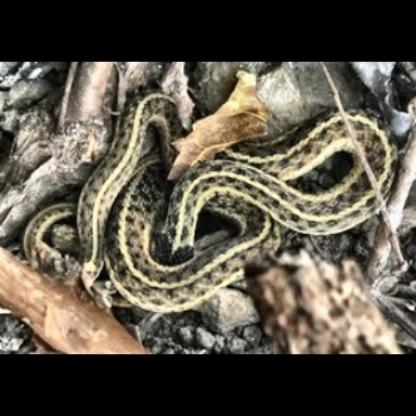Snake: (18, 91, 396, 322)
